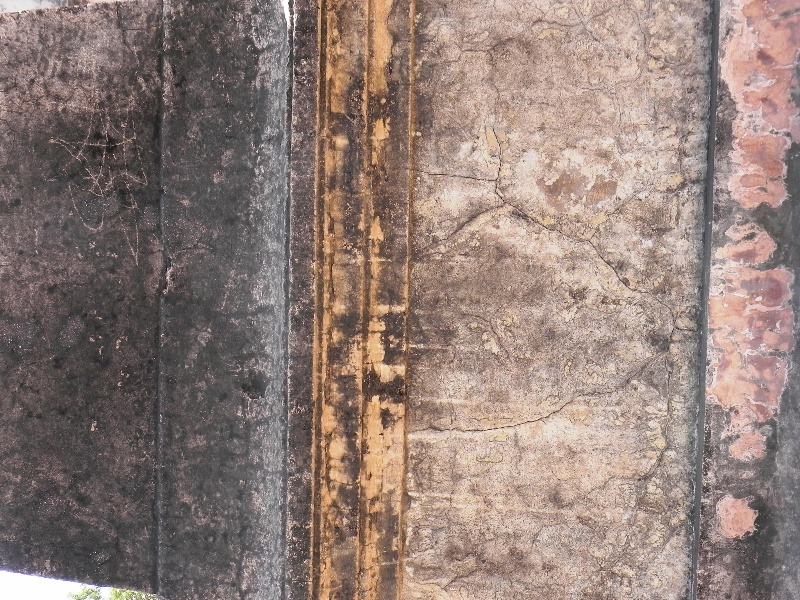Crack: (494, 173, 570, 237)
